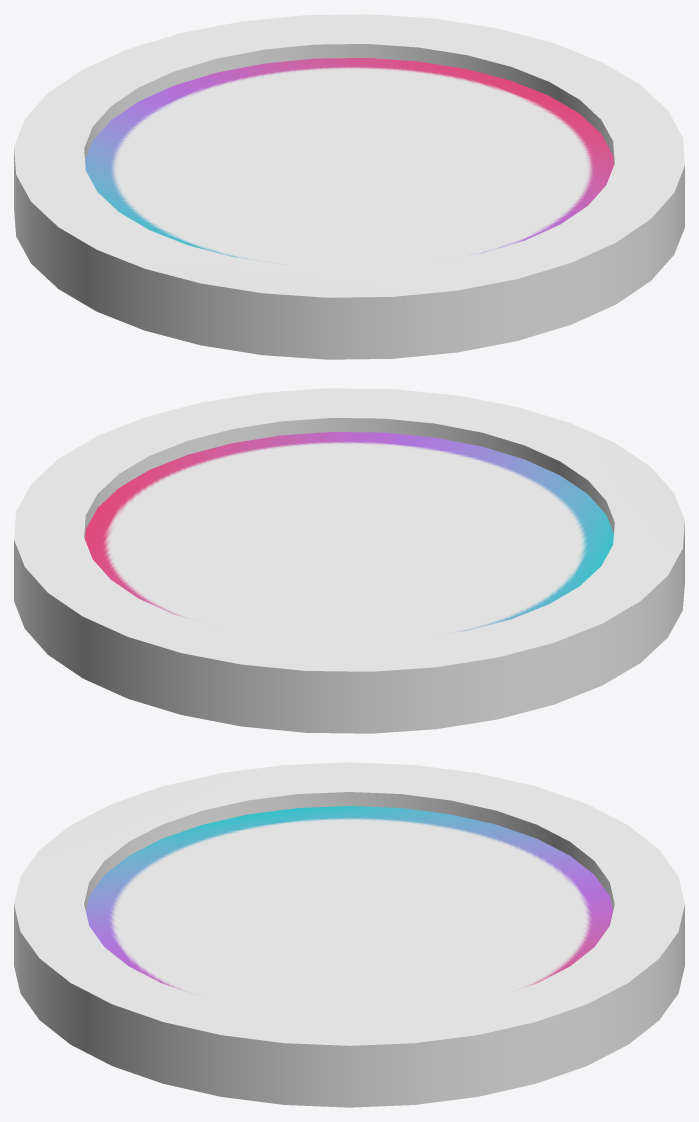
Rendered from pack.fbx.
3 views of the same model, one above another, from view 1: azimuth 30°, elevation 25°; view 2: azimuth 150°, elevation 25°; view 3: azimuth 270°, elevation 25° (orthographic).
Visible parts, largest first — view 1: Pack; view 2: Pack; view 3: Pack.
Part boxes in pixels (<box>): Pack: <box>14,14,684,359</box>; Pack: <box>14,388,684,733</box>; Pack: <box>14,762,684,1107</box>.
Size of the model in its own units: 3.42 by 0.3471 by 3.42.
1 material, 1 textured.
